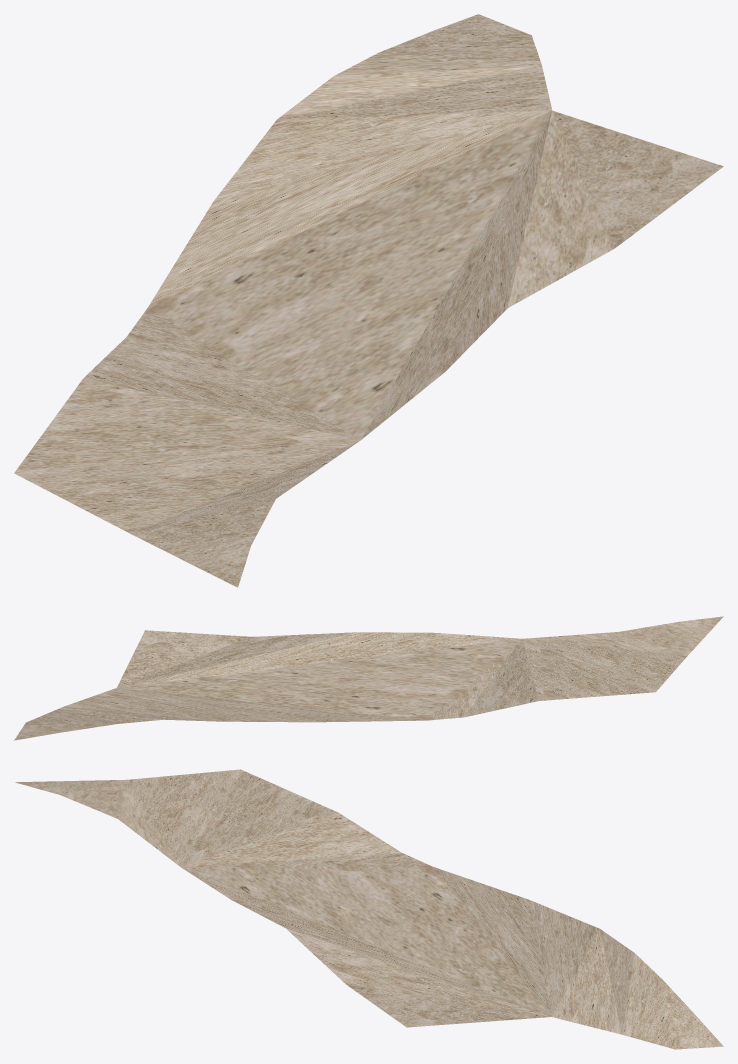
Rendered from lodseabed075.obj.
The picture shows the model from 3 angles, top to bottom: view 1: azimuth 30°, elevation 25°; view 2: azimuth 150°, elevation 25°; view 3: azimuth 270°, elevation 25°; orthographic projection. The views are drawn at different scales.
Parts seen in each view (by area): view 1: lodseabed075; view 2: lodseabed075; view 3: lodseabed075.
Boxes of the visible parts, x1,y1,x2,y2 form: lodseabed075: (14,14,723,587); lodseabed075: (14,616,723,740); lodseabed075: (15,769,723,1049).
Bounding box in the file's own units: 202 × 9.26 × 226.
